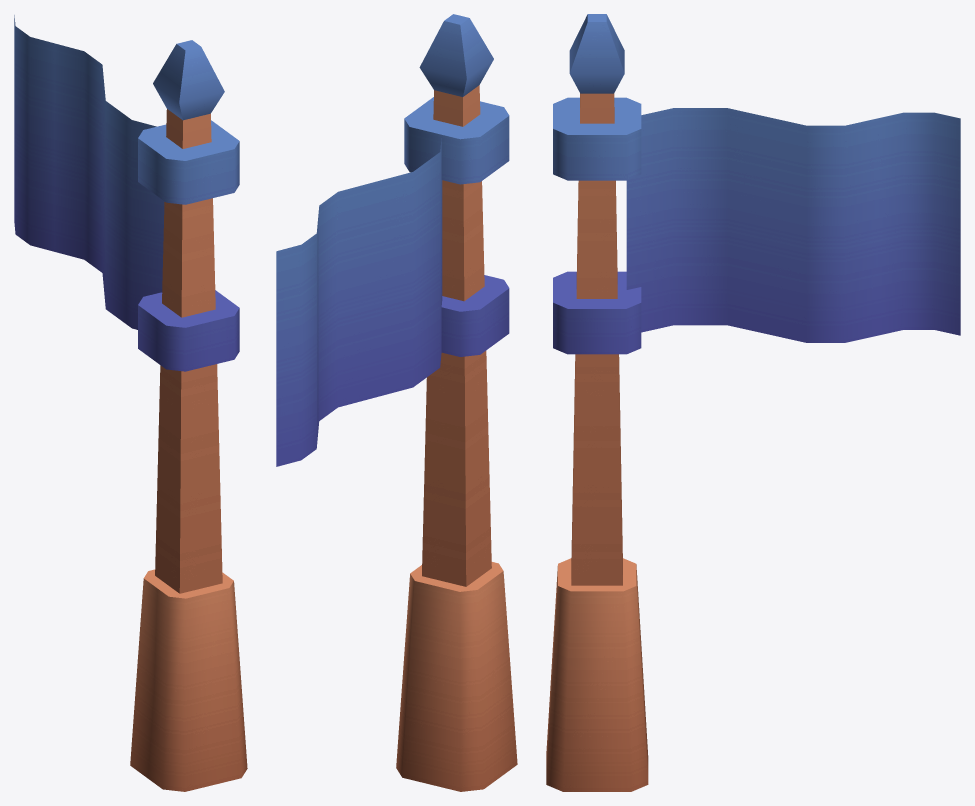
File: flag.glb
3 views of the same model, side by side, from view 1: azimuth 30°, elevation 25°; view 2: azimuth 150°, elevation 25°; view 3: azimuth 270°, elevation 25° (orthographic). The views are drawn at different scales.
Parts seen in each view (by area): view 1: flag; view 2: flag; view 3: flag.
Part boxes in pixels (left/top/right/bottom): flag: left=14, top=15, right=247, bottom=791; flag: left=276, top=14, right=517, bottom=791; flag: left=546, top=14, right=960, bottom=791.
Bounding box in the file's own units: 0.1064 × 0.8656 × 0.4323.
1 material, 1 textured.
